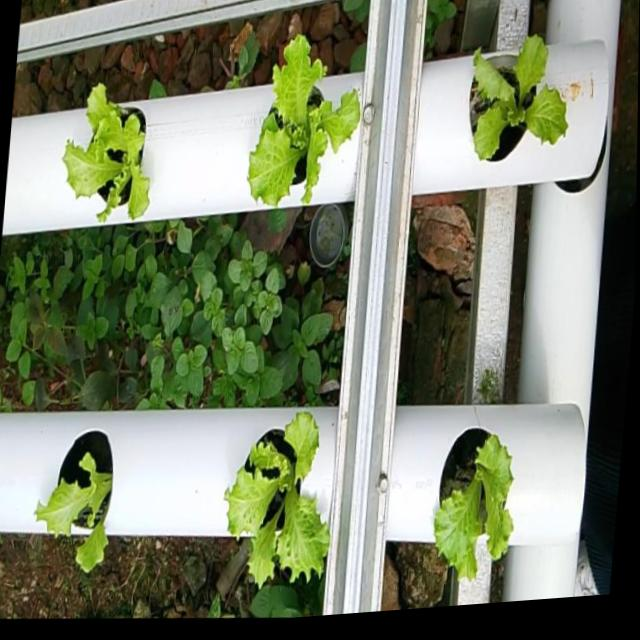Baby: (249, 36, 362, 208), (227, 412, 331, 592), (471, 35, 570, 164), (65, 83, 152, 222), (436, 429, 514, 581), (38, 428, 115, 570)
